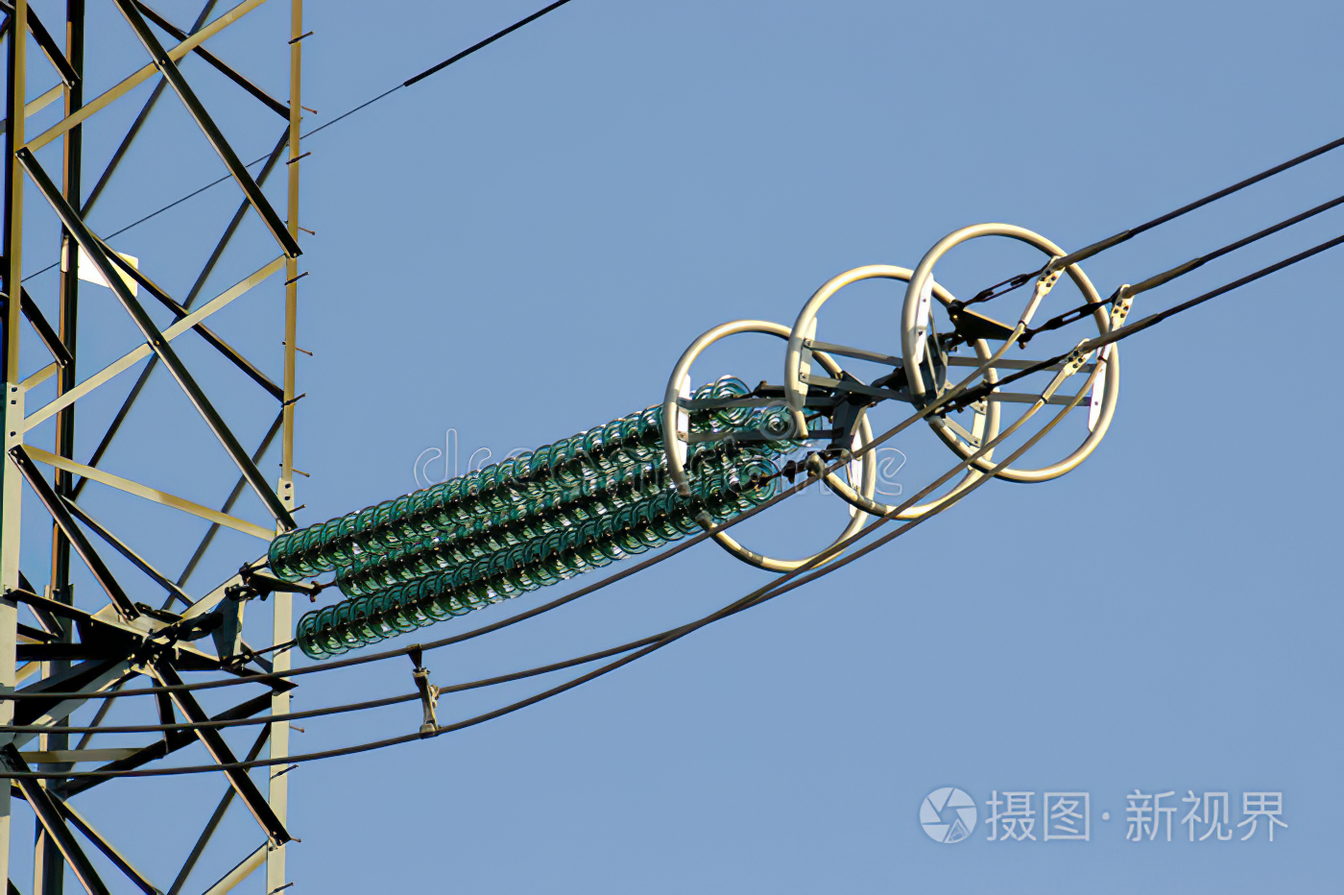insulator: (267, 377, 804, 660)
